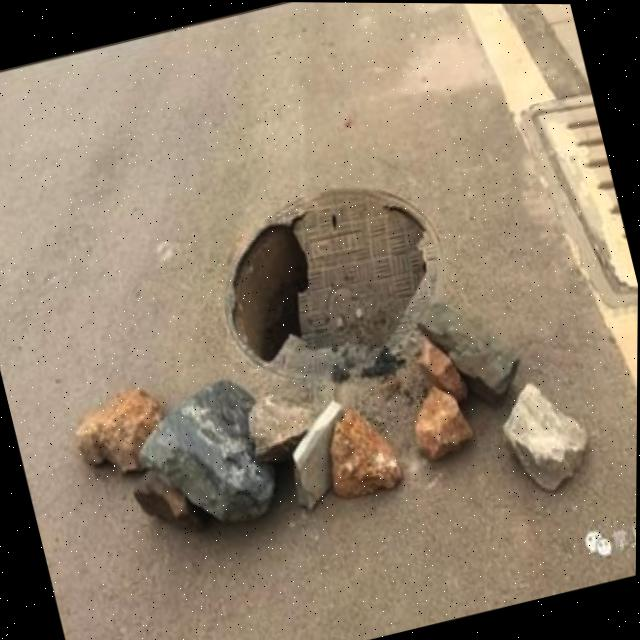manhole: (198, 165, 460, 398)
